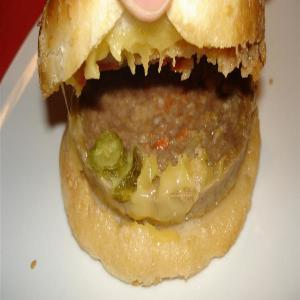cheeseburger: (27, 3, 286, 288)
